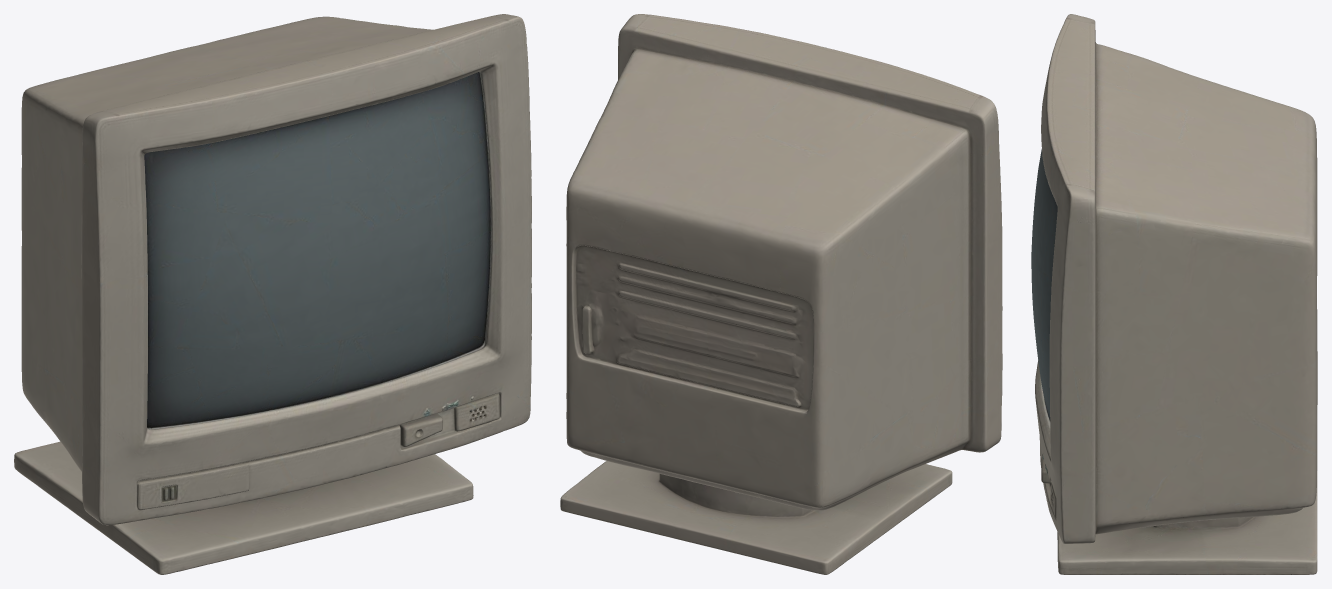
File: crt.glb
3 views of the same model, side by side, from view 1: azimuth 30°, elevation 25°; view 2: azimuth 150°, elevation 25°; view 3: azimuth 270°, elevation 25° (orthographic). The views are drawn at different scales.
Bounding box in the file's own units: 1.84 × 1.9 × 1.21.
1 material, 1 textured.
